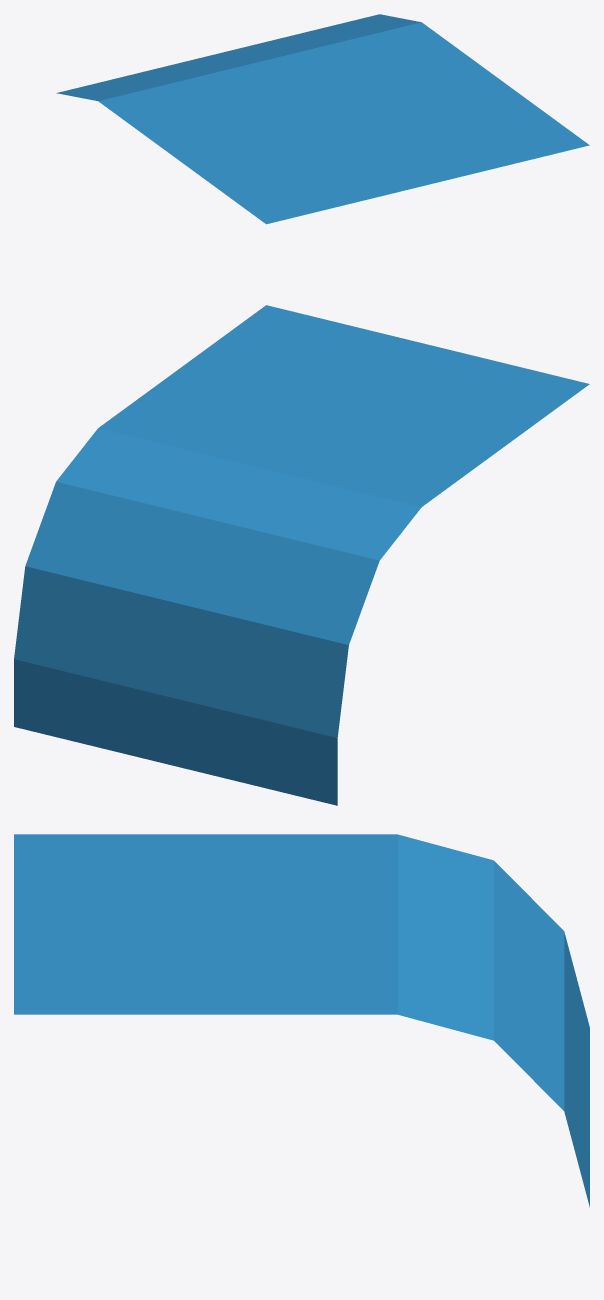
File: Waterfall_Water_Top.glb
The picture shows the model from 3 angles, top to bottom: view 1: azimuth 30°, elevation 25°; view 2: azimuth 150°, elevation 25°; view 3: azimuth 270°, elevation 25°; orthographic projection. The views are drawn at different scales.
Parts seen in each view (by area): view 1: object1; view 2: object1; view 3: object1.
Part boxes in pixels (x1,y1,x2,y2): object1: [56, 14, 589, 224]; object1: [14, 305, 589, 805]; object1: [14, 834, 589, 1207].
Bounding box in the file's own units: 1 × 0.7 × 1.35.
